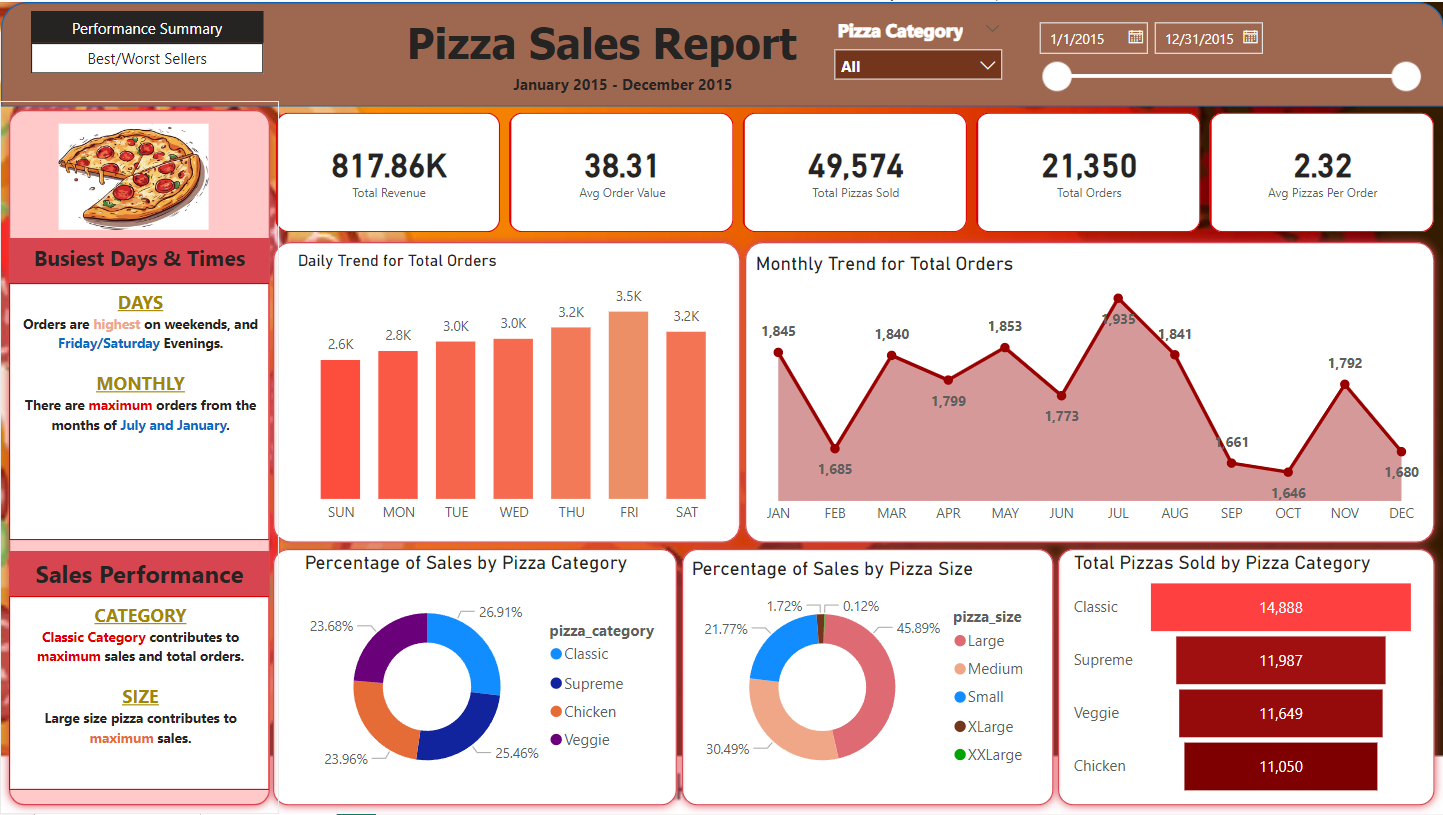

The page's visual inventory and layout, read from the dashboard file:
{"tool":"powerbi","page":{"name":"Performance Summary","canvas":[1280,720],"ordinal":0},"visuals":[{"type":"cardVisual","fields":{"Data":["Pizza_sales.Total Revenue","Pizza_sales.Avg Order Value","Pizza_sales.Total Pizzas Sold","Pizza_sales.Total Orders","Pizza_sales.Avg Pizzas Per Order"]},"box":[239.3,92.9,1040.4,116.4],"z":0},{"type":"shape","box":[0.6,0,1279.7,92.7],"z":1000},{"type":"textbox","box":[318.4,8.7,430.3,55],"z":2000},{"type":"textbox","box":[440.2,59.3,225,33.4],"z":3000},{"type":"shape","box":[234.1,204.7,430.3,282.5],"z":4000},{"type":"columnChart","title":"Daily Trend for Total Orders","fields":{"Category":["Pizza_sales.Order Day"],"Y":["Pizza_sales.Total Orders"]},"box":[259,221,393.7,249.8],"z":5000},{"type":"shape","box":[652.6,204.7,627.1,282.5],"z":6000},{"type":"areaChart","title":"Monthly Trend for Total Orders","fields":{"Category":["Pizza_sales.Order Month"],"Y":["Pizza_sales.Total Orders"]},"box":[665.2,221.3,602.8,249.8],"z":7000},{"type":"shape","box":[929.9,476.7,349.9,243.3],"z":8000},{"type":"shape","box":[597.1,476.7,345.3,243.3],"z":9000},{"type":"shape","box":[234.1,476.7,374.1,243.3],"z":10000},{"type":"donutChart","title":"Percentage of Sales by Pizza Category","fields":{"Category":["Pizza_sales.pizza_category"],"Y":["Pizza_sales.Total Revenue"]},"box":[265.5,487.2,327,221.7],"z":11000},{"type":"donutChart","title":"Percentage of Sales by Pizza Size","fields":{"Y":["Pizza_sales.Total Revenue"],"Category":["Pizza_sales.pizza_size"]},"box":[608.2,491.8,321.7,211.9],"z":12000},{"type":"funnel","title":"Total Pizzas Sold by Pizza Category","fields":{"Category":["Pizza_sales.pizza_category"],"Y":["Pizza_sales.Total Pizzas Sold"]},"box":[947.1,487.1,314,221.9],"z":13000},{"type":"shape","box":[0,87.8,247.3,632.4],"z":14000},{"type":"textbox","box":[8,209.6,231.2,39.6],"z":15000},{"type":"textbox","box":[8,249.1,231.2,227.5],"z":16000},{"type":"textbox","box":[8,487.1,231.2,39.6],"z":17000},{"type":"textbox","box":[8,526.7,231.2,171.9],"z":18000},{"type":"slicer","fields":{"Values":["Pizza_sales.pizza_category"]},"box":[730.1,8.7,168.8,75.4],"z":19000},{"type":"slicer","fields":{"Values":["Pizza_sales.order_date"]},"box":[908.8,8,359.2,76],"z":20000},{"type":"pageNavigator","box":[27.5,7.8,206.6,28.1],"z":21000},{"type":"pageNavigator","box":[27.5,36,206.6,27.5],"z":22000},{"type":"image","box":[47.1,78.5,143.2,151.1],"z":23000}]}

Visuals, with their boxes in screenshot pixels (x1, y1, x2, y2), scaled from the page's 1280x720 canvas onto the 1443x815 screenshot:
cardVisual - Pizza_sales.Total Revenue x Pizza_sales.Avg Order Value: locate(270, 105, 1442, 237)
shape: locate(1, 0, 1442, 105)
textbox: locate(359, 10, 844, 72)
textbox: locate(496, 67, 750, 105)
shape: locate(264, 232, 749, 551)
"Daily Trend for Total Orders" columnChart: locate(292, 250, 736, 533)
shape: locate(736, 232, 1442, 551)
"Monthly Trend for Total Orders" areaChart: locate(750, 250, 1429, 533)
shape: locate(1048, 540, 1442, 814)
shape: locate(673, 540, 1062, 814)
shape: locate(264, 540, 686, 814)
"Percentage of Sales by Pizza Category" donutChart: locate(299, 551, 668, 802)
"Percentage of Sales by Pizza Size" donutChart: locate(686, 557, 1048, 797)
"Total Pizzas Sold by Pizza Category" funnel: locate(1068, 551, 1422, 803)
shape: locate(0, 99, 279, 814)
textbox: locate(9, 237, 270, 282)
textbox: locate(9, 282, 270, 539)
textbox: locate(9, 551, 270, 596)
textbox: locate(9, 596, 270, 791)
slicer - Pizza_sales.pizza_category: locate(823, 10, 1013, 95)
slicer - Pizza_sales.order_date: locate(1025, 9, 1429, 95)
pageNavigator: locate(31, 9, 264, 41)
pageNavigator: locate(31, 41, 264, 72)
image: locate(53, 89, 215, 260)
